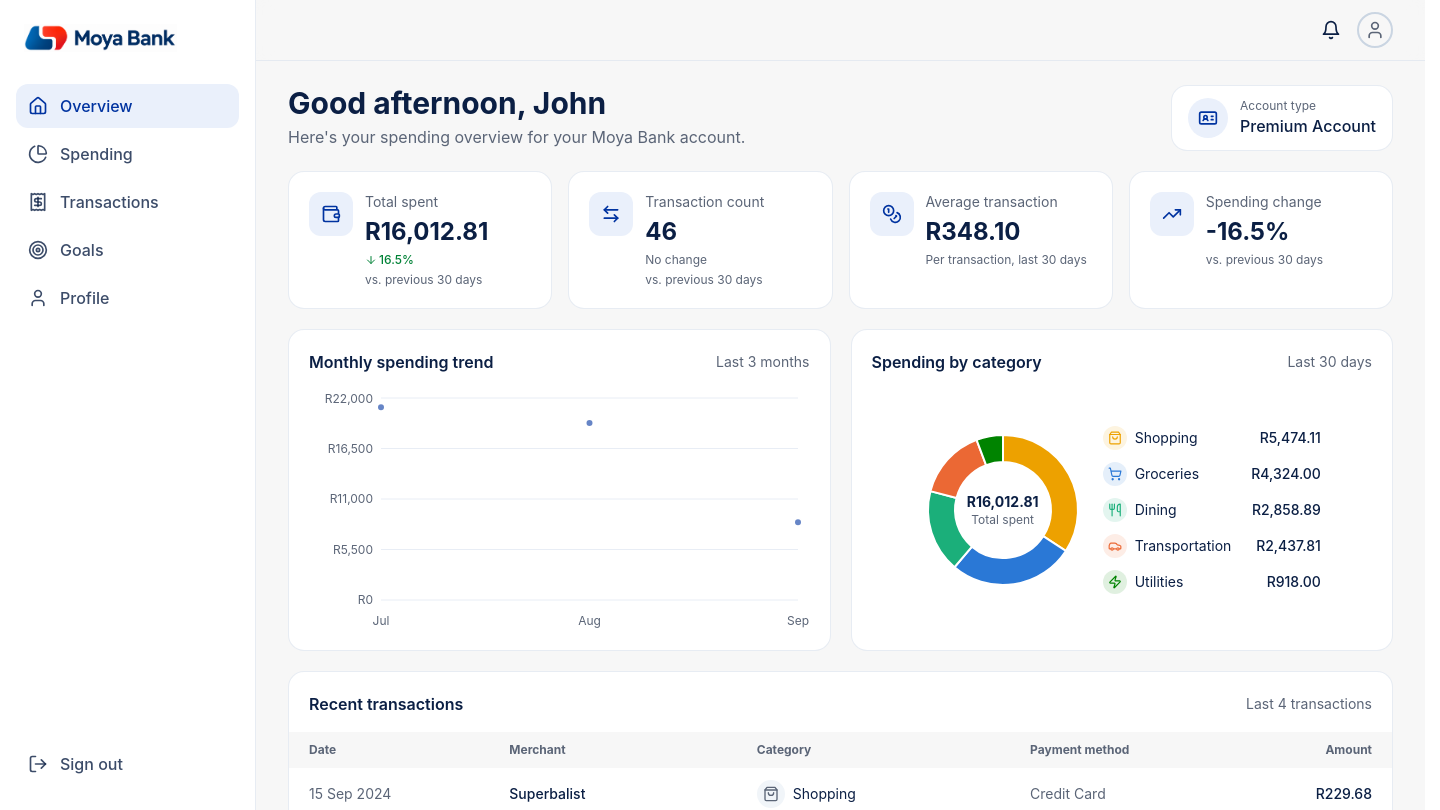
Scenario: Dashboard layout › goes to the profile from the account menu
Click the button named "Signed in as John Doe" at coordinates (1375, 30), box [1357,12,1393,48]
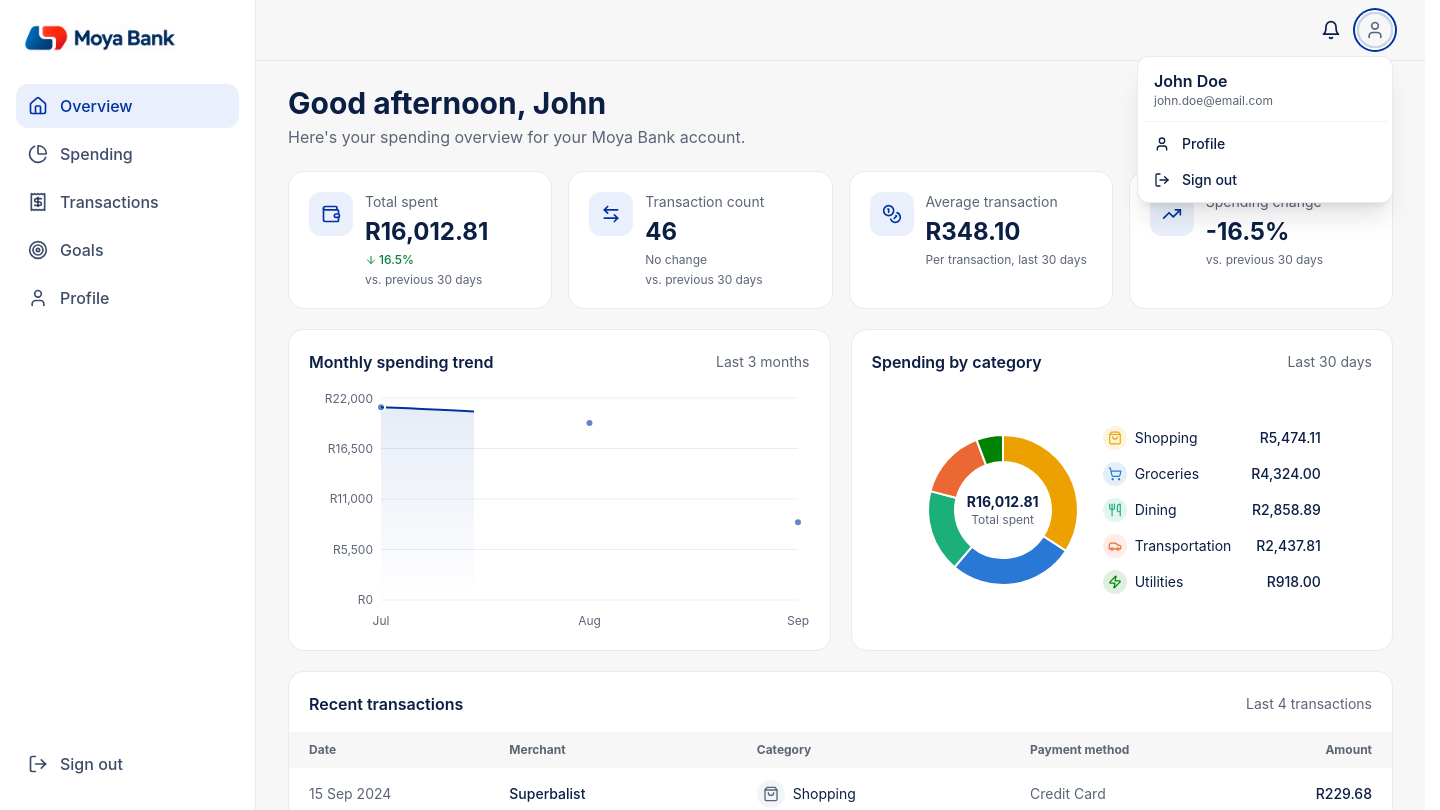
Click the link "Profile" below "john.doe@email.com" at coordinates (1190, 144), box [1154,135,1225,152]
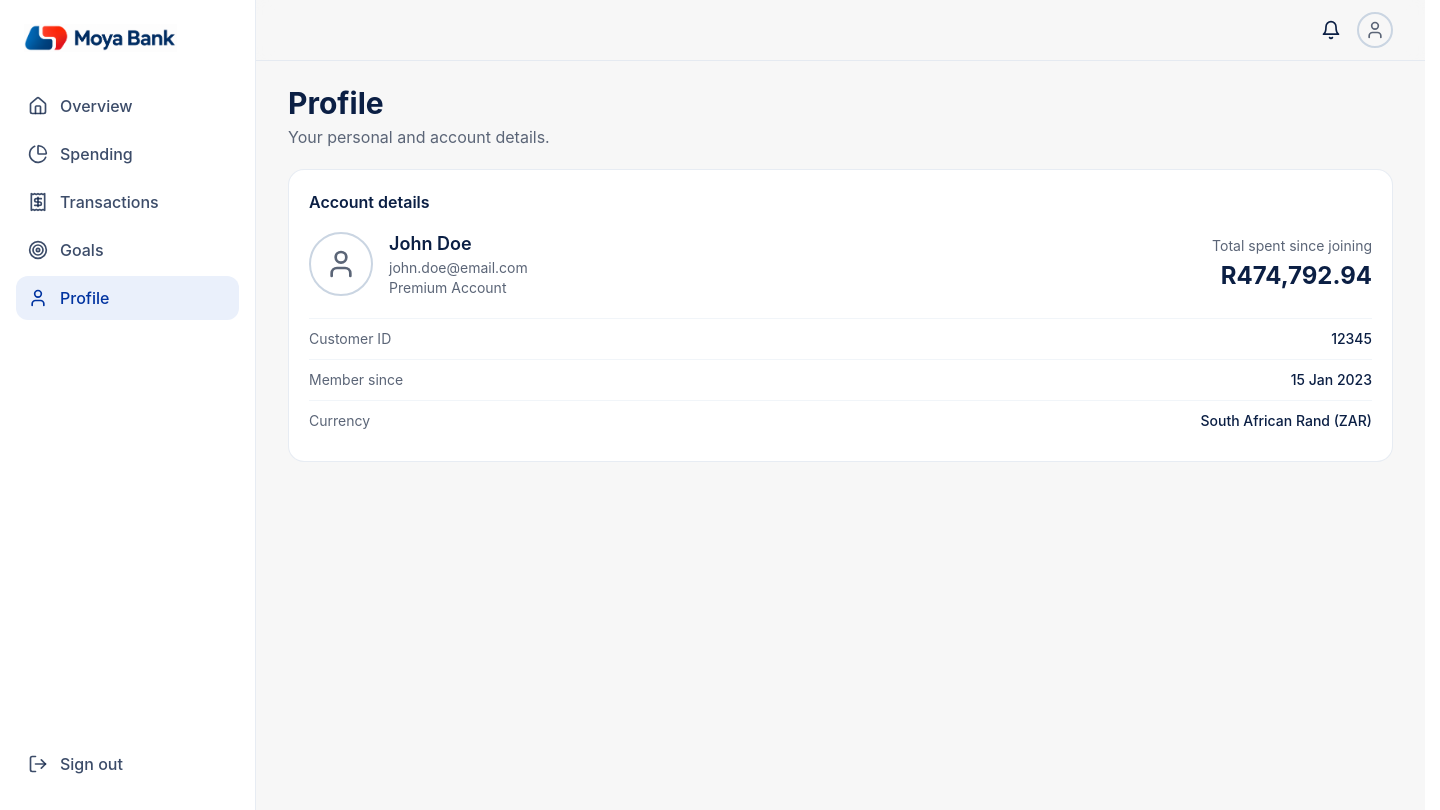
Now the heading "Profile" is shown, box [288,85,384,121]
